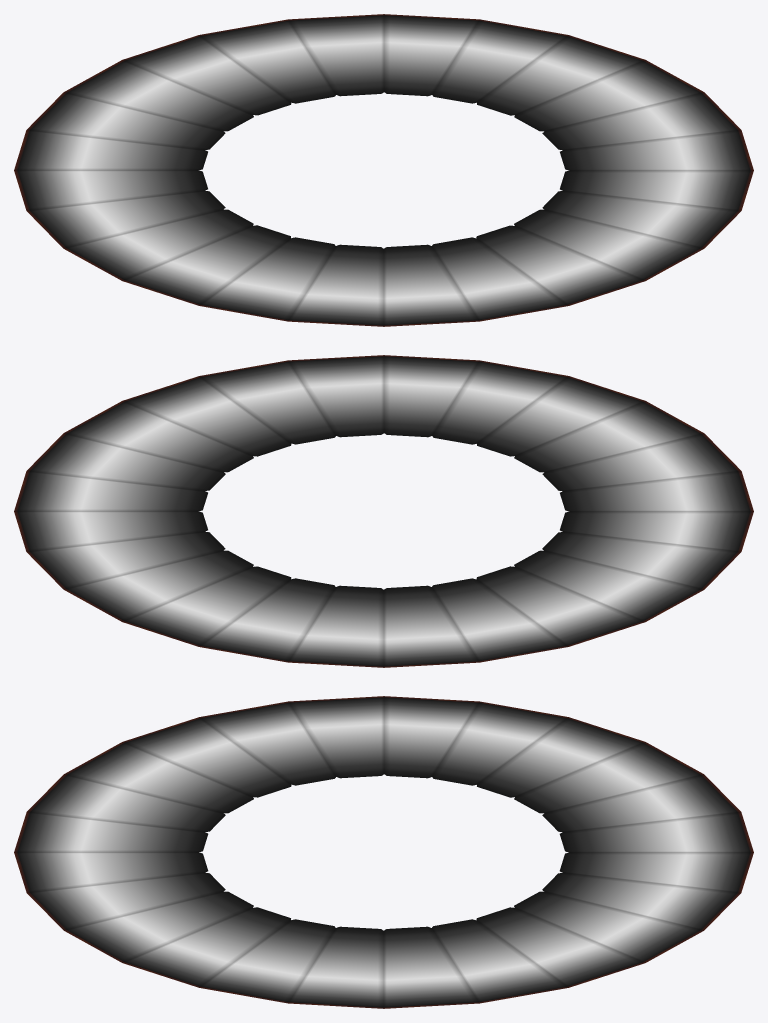
3 views of the same model, one above another, from view 1: azimuth 30°, elevation 25°; view 2: azimuth 150°, elevation 25°; view 3: azimuth 270°, elevation 25° (orthographic).
Visible parts, largest first — view 1: T1L2M009_50; view 2: T1L2M009_50; view 3: T1L2M009_50.
Part boxes in pixels (bbox=[...]): T1L2M009_50: bbox=[14, 14, 753, 326]; T1L2M009_50: bbox=[14, 355, 753, 667]; T1L2M009_50: bbox=[14, 696, 753, 1008].
Size of the model in its own units: 3.43 by 0 by 3.43.
